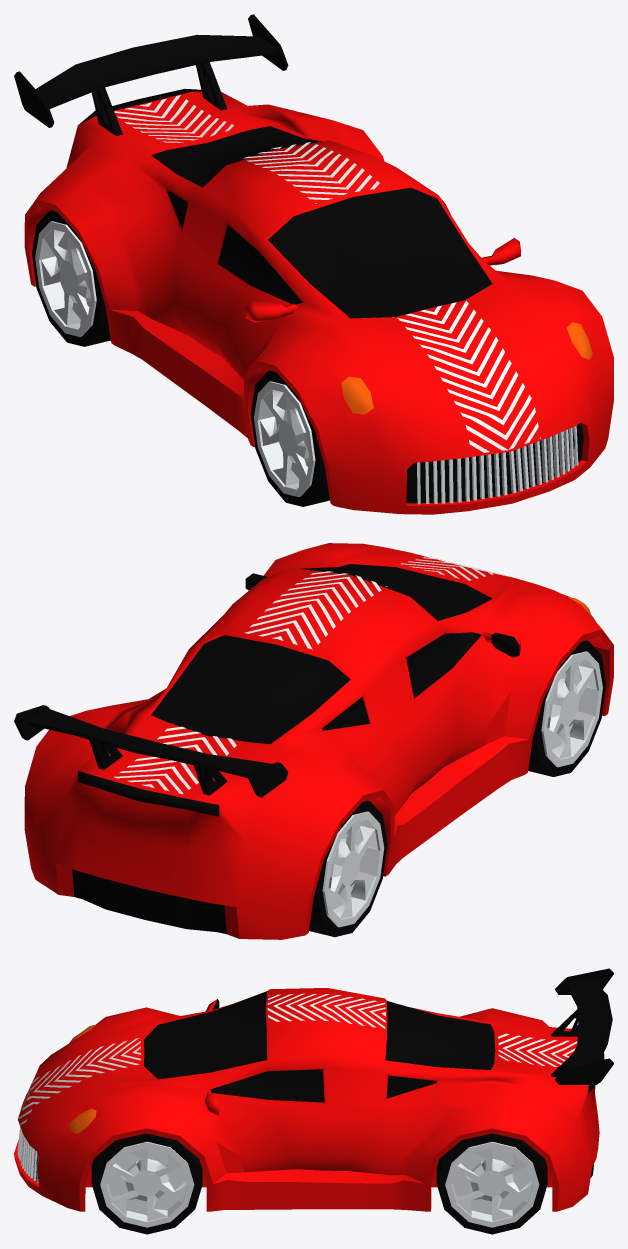
File: Car.fbx
3 renders of one model, top to bottom at view 1: azimuth 30°, elevation 25°; view 2: azimuth 150°, elevation 25°; view 3: azimuth 270°, elevation 25°, orthographic. The views are drawn at different scales.
Parts seen in each view (by area): view 1: Car, Stripe_01, Stripe_02, Stripe_03; view 2: Car, Stripe_02, Stripe_03, Stripe_01; view 3: Car, Stripe_01, Stripe_02, Stripe_03.
Part boxes in pixels (box(x1,y1,x2,y2)): Car: box(14, 14, 613, 514); Stripe_01: box(398, 300, 540, 452); Stripe_02: box(243, 142, 379, 203); Stripe_03: box(114, 95, 233, 142); Car: box(14, 543, 613, 939); Stripe_02: box(244, 571, 387, 649); Stripe_03: box(114, 723, 236, 794); Stripe_01: box(400, 557, 513, 580); Car: box(14, 968, 613, 1234); Stripe_01: box(18, 1038, 140, 1129); Stripe_02: box(267, 993, 385, 1028); Stripe_03: box(498, 1033, 577, 1066).
Bounding box in the file's own units: 99.39 × 68.3 × 213.
